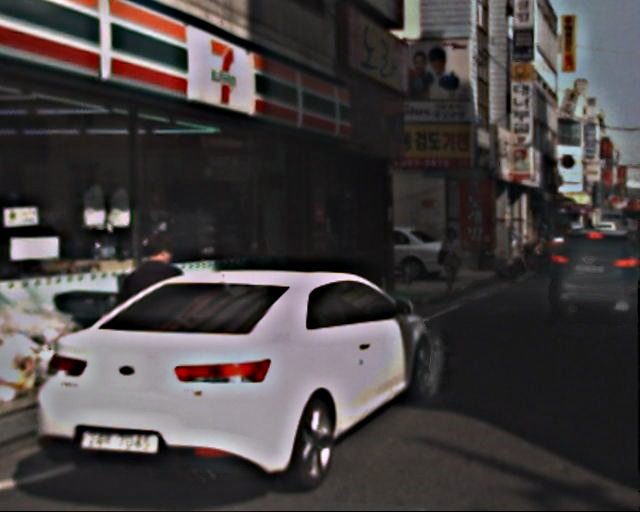person: (129, 233, 188, 378), (435, 230, 479, 301)
